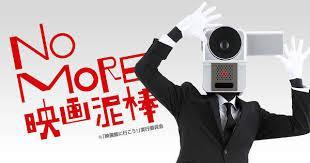no more kid: (199, 22, 287, 96)
